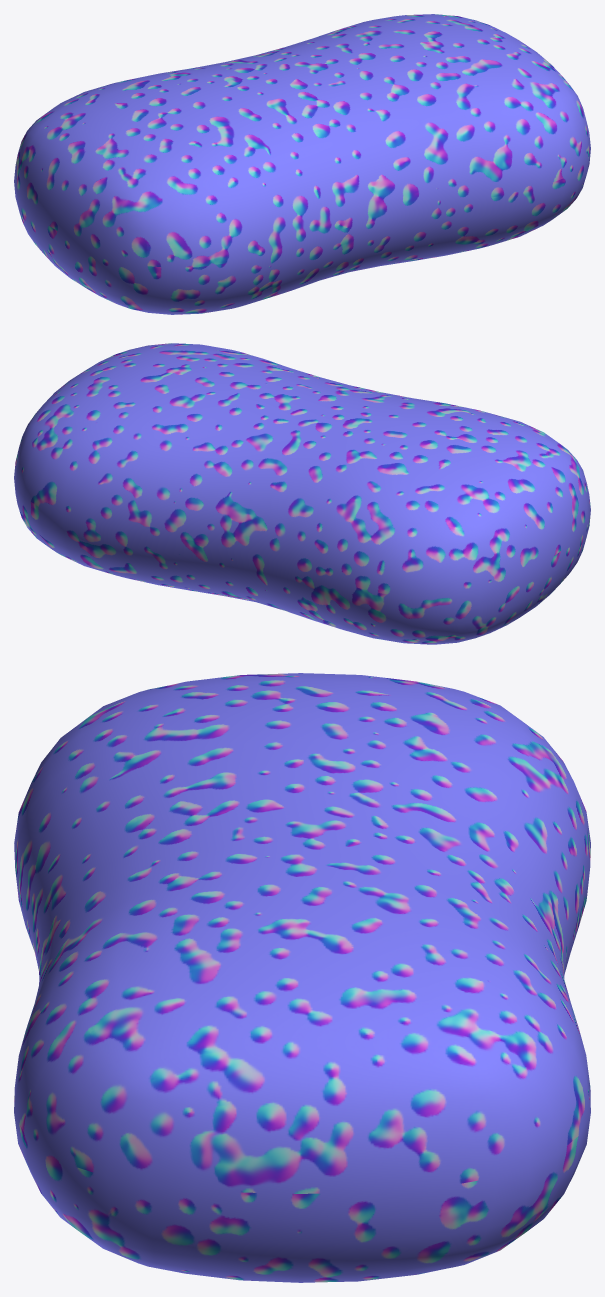
File: BathSponge.fbx
3 renders of one model, top to bottom at view 1: azimuth 30°, elevation 25°; view 2: azimuth 150°, elevation 25°; view 3: azimuth 270°, elevation 25°, orthographic. The views are drawn at different scales.
Visible parts, largest first — view 1: Bath Sponge; view 2: Bath Sponge; view 3: Bath Sponge.
Part boxes in pixels (box(x1,y1,x2,y2)): Bath Sponge: box(14, 14, 590, 314); Bath Sponge: box(14, 343, 590, 644); Bath Sponge: box(14, 673, 590, 1282).
Bounding box in the file's own units: 589 × 207 × 334.
1 material, 1 textured.
